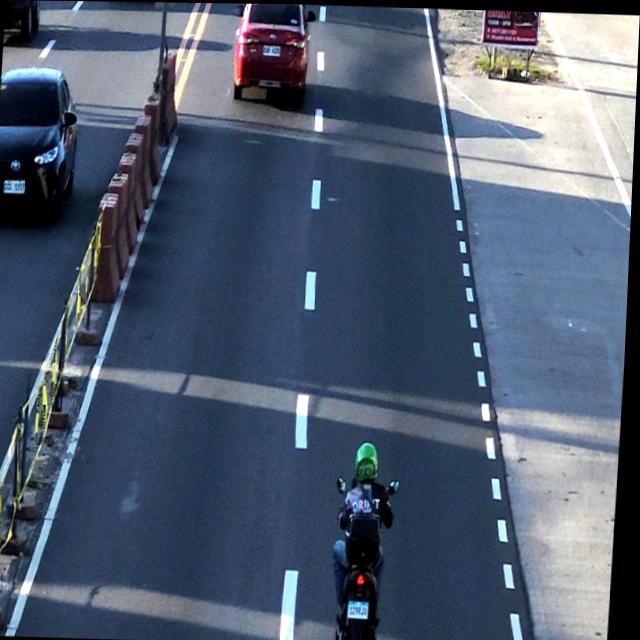Car: (226, 3, 312, 104)
License-Plate: (351, 594, 376, 617), (260, 39, 284, 57)
Motorcycle: (338, 441, 397, 640)
